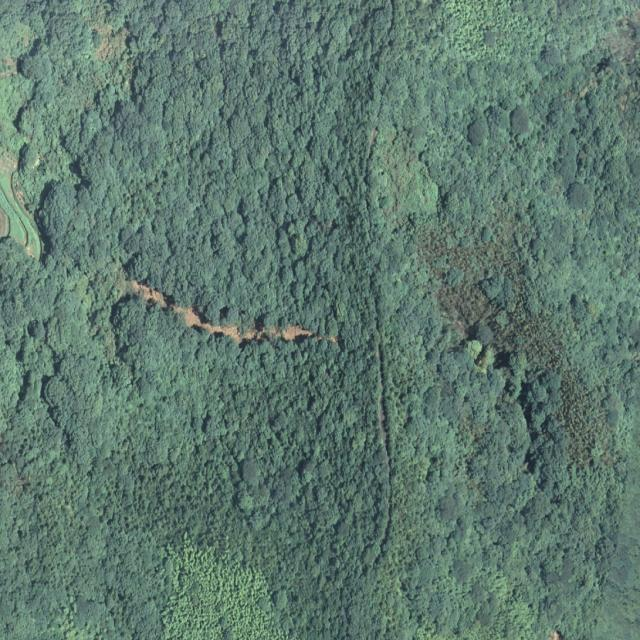landslide: (123, 279, 337, 344)
